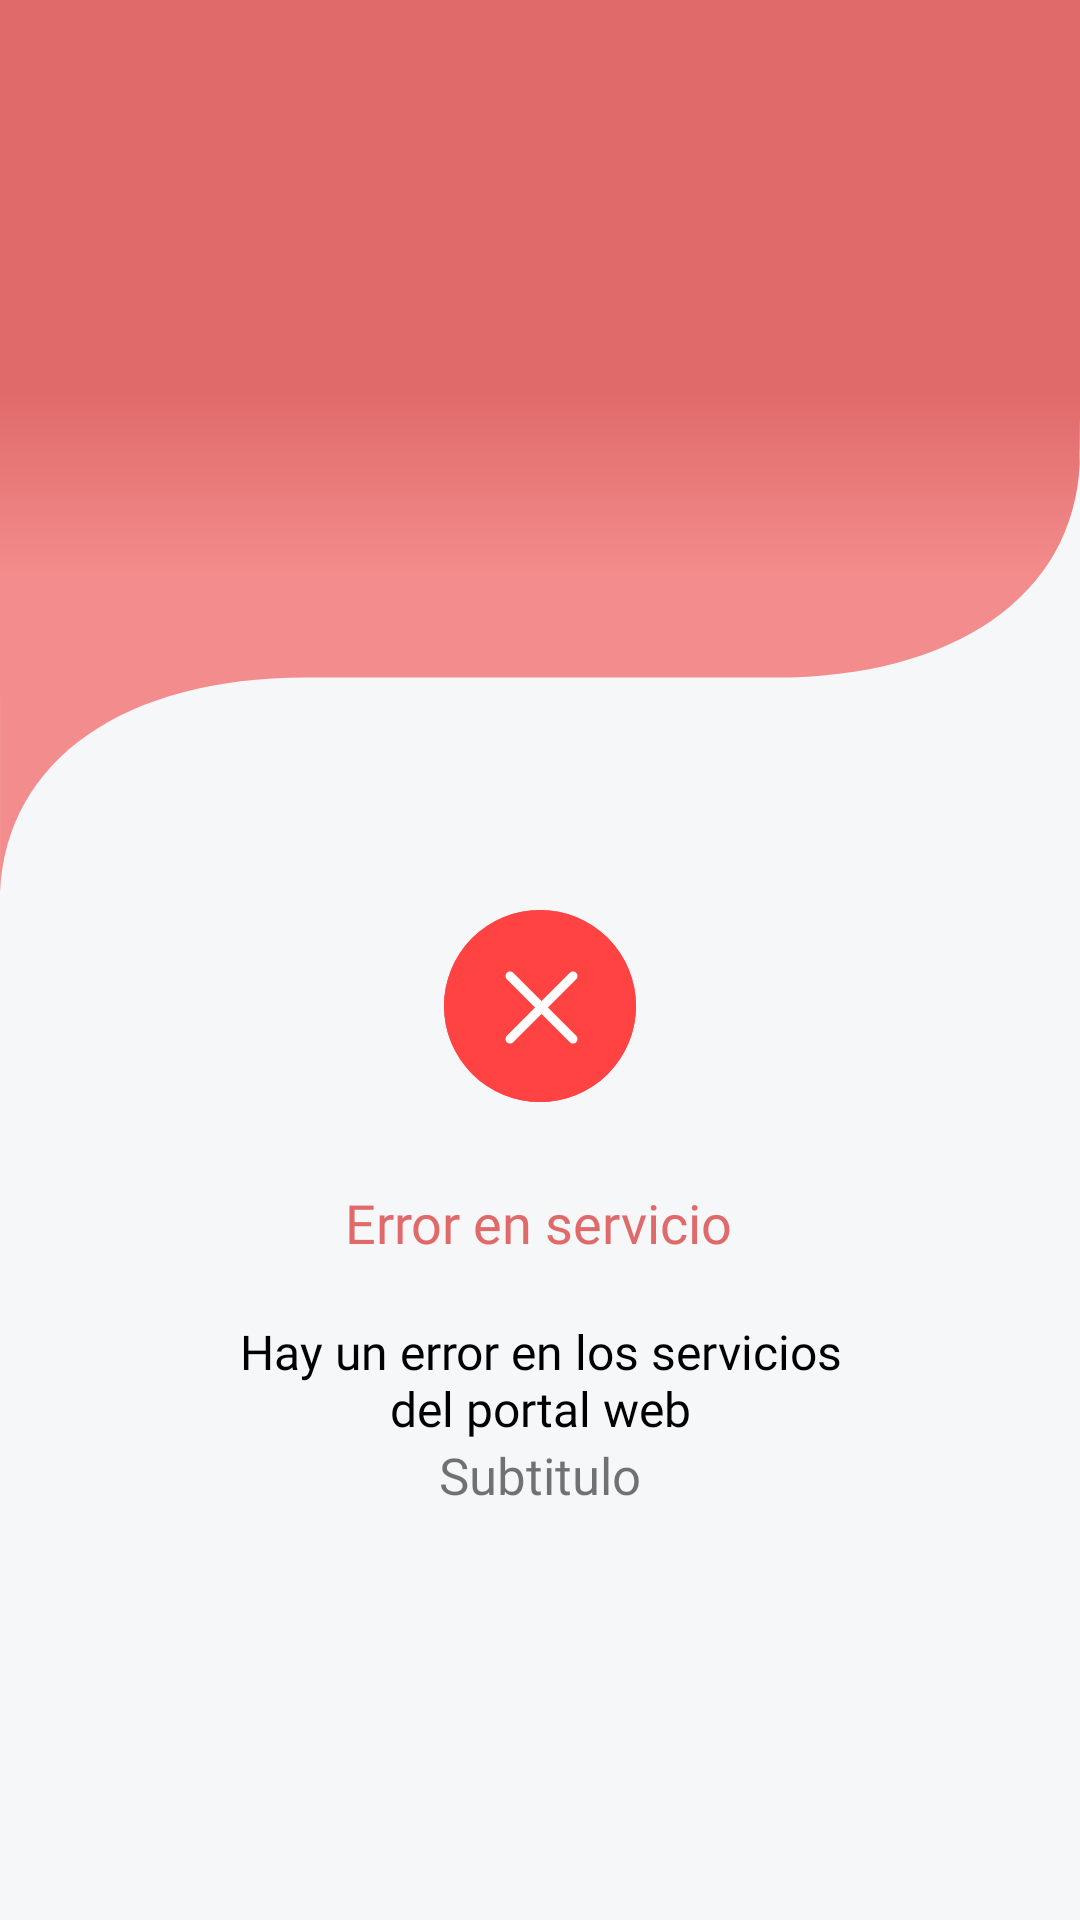

Screen size 1080w x 1920h. Icon name, then its box in pixels as box=[x1, y1, x2, y2]:
ysv error: box=[444, 910, 636, 1102]
